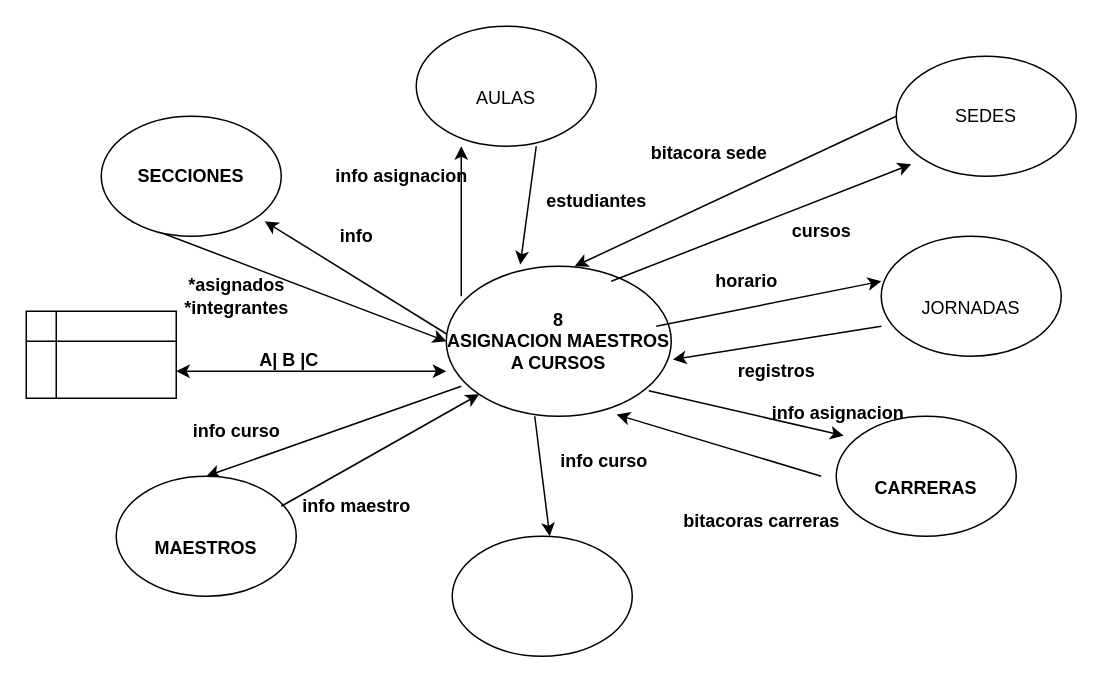
This 1103x683 diagram has some shape labels left out. The shapes that lost their labels are listed below. From the top down, each one's box as (x1, y1, x2, y2) in pixels, then its label:
(25, 310, 176, 398): Asignacion
(451, 535, 632, 656): CUSROS
